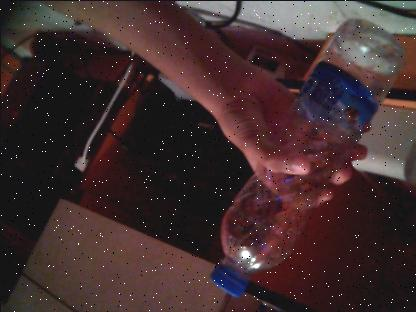Plastic Bottle: (207, 19, 408, 297)
